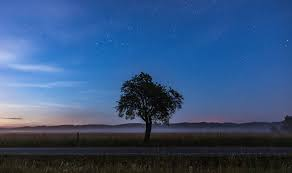field: (3, 128, 292, 171)
sky: (1, 1, 290, 119)
tree: (119, 71, 182, 145)
